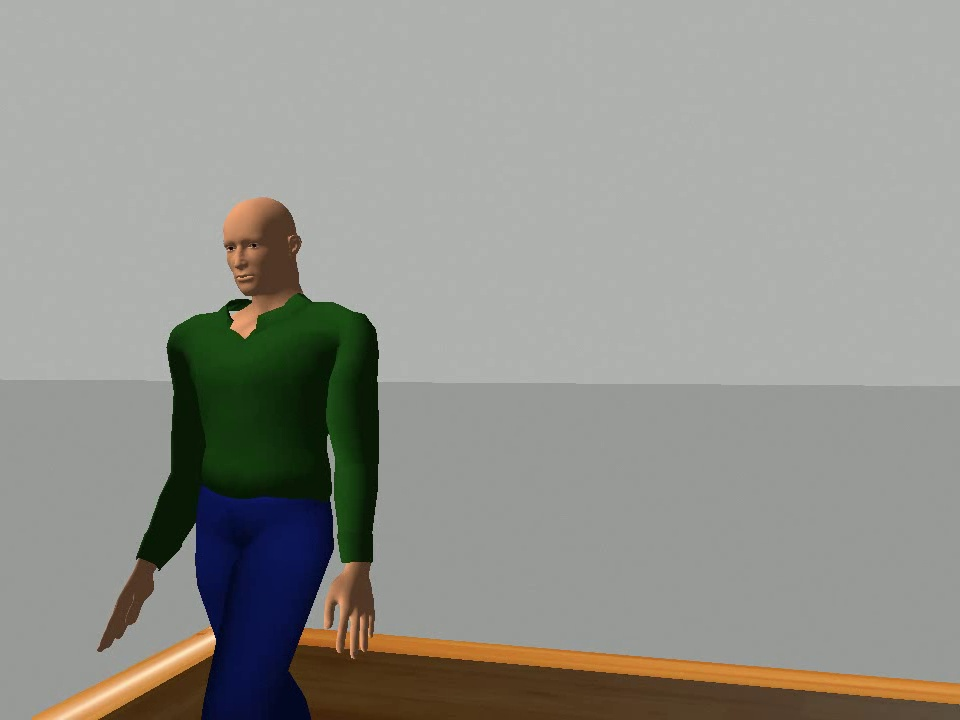person: (93, 190, 392, 720)
